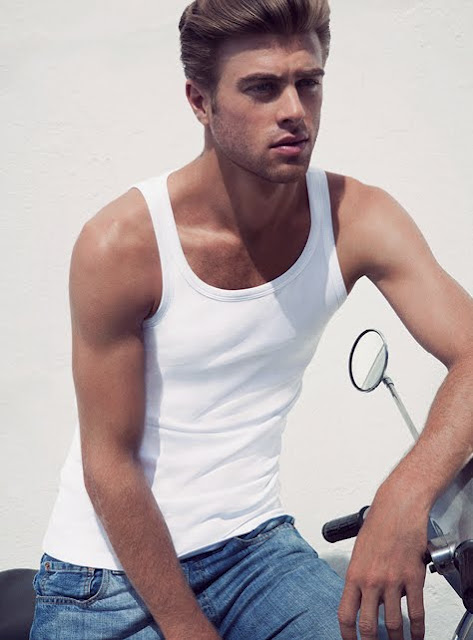person: (24, 1, 473, 640)
